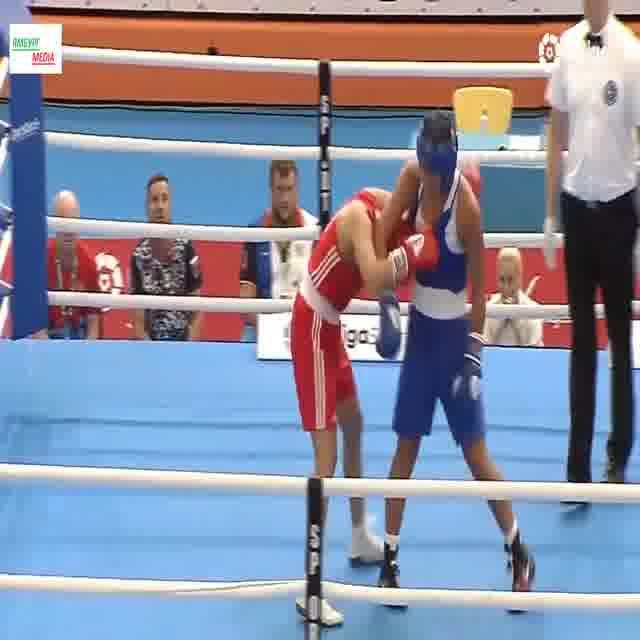blue-player: (369, 109, 540, 616)
red-player: (289, 159, 483, 631)
referee: (541, 0, 640, 510)
